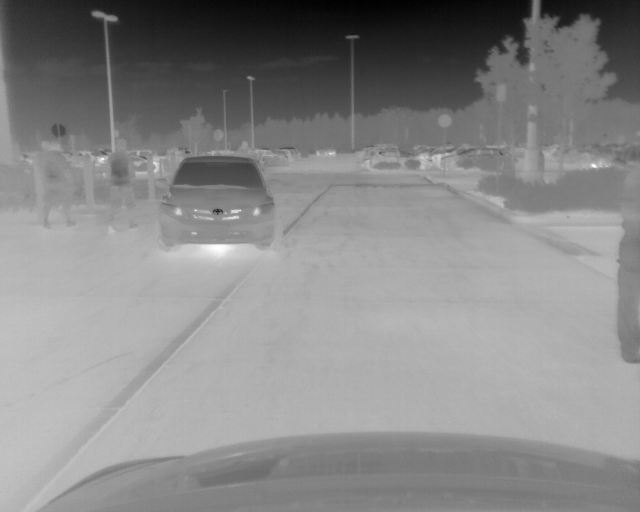car: (154, 155, 274, 251), (366, 148, 431, 170), (439, 148, 500, 168), (317, 147, 335, 155)
people: (612, 160, 640, 321), (104, 140, 138, 232), (43, 143, 76, 231), (34, 140, 47, 224), (501, 149, 517, 177), (236, 140, 259, 158), (535, 148, 545, 179)
